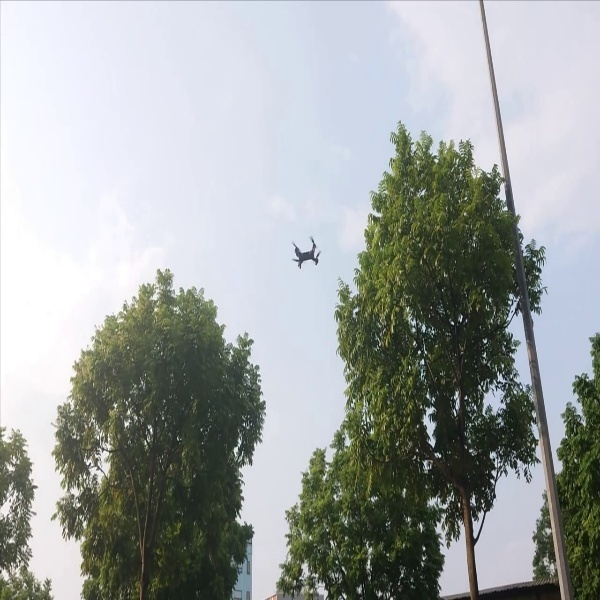drone: (287, 230, 329, 275)
